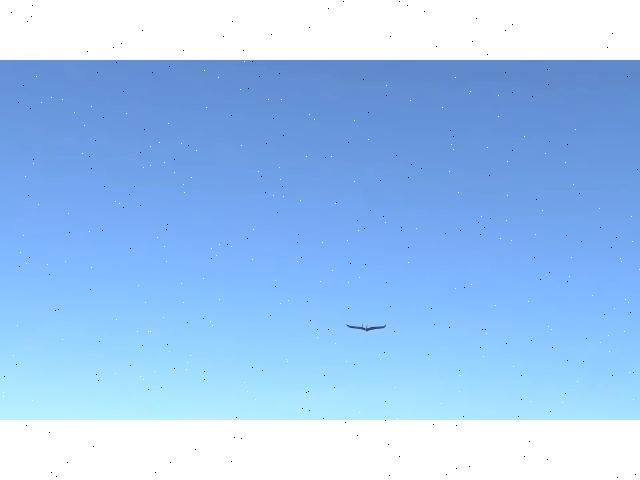Anti-Drone: (338, 311, 396, 343)
